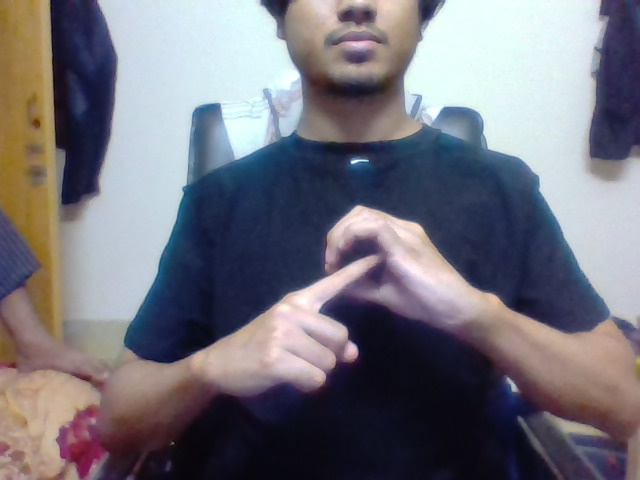Q: (324, 223, 400, 306)
